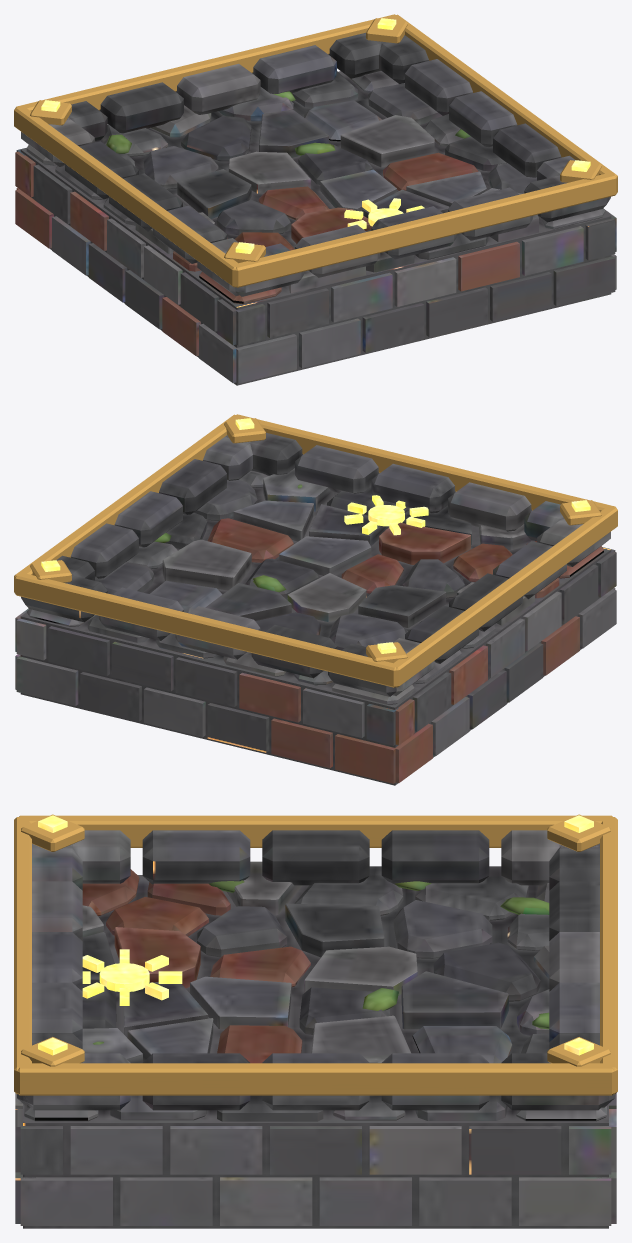
Rendered from plate_3_svarog.glb.
3 views of the same model, one above another, from view 1: azimuth 30°, elevation 25°; view 2: azimuth 150°, elevation 25°; view 3: azimuth 270°, elevation 25° (orthographic). The views are drawn at different scales.
Visible parts, largest first — view 1: plate_3_svarog; view 2: plate_3_svarog; view 3: plate_3_svarog.
Boxes of the visible parts, bbox=[...] form: plate_3_svarog: bbox=[14, 14, 617, 385]; plate_3_svarog: bbox=[14, 414, 617, 785]; plate_3_svarog: bbox=[14, 814, 617, 1228].
Bounding box in the file's own units: 2.02 × 0.635 × 2.02.
Materials: 2 (1 with a texture image).
